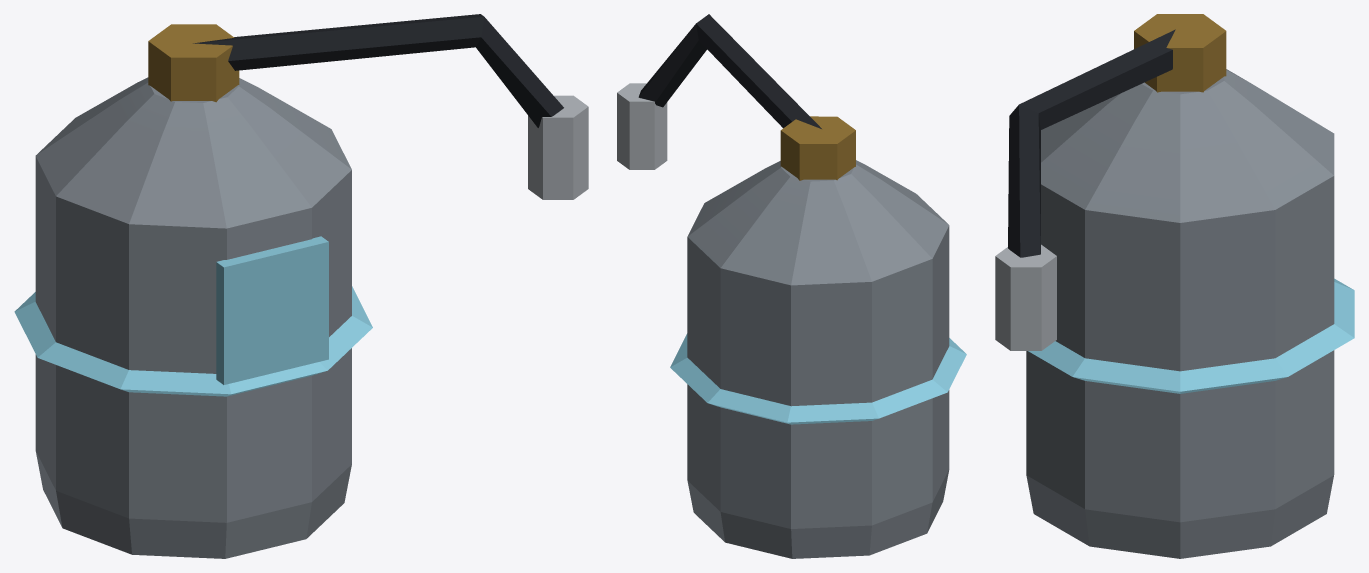
Rendered from projector-tank-cryo.glb.
The picture shows the model from 3 angles, left to right: view 1: azimuth 30°, elevation 25°; view 2: azimuth 150°, elevation 25°; view 3: azimuth 270°, elevation 25°; orthographic projection. The views are drawn at different scales.
Parts seen in each view (by area): view 1: m; view 2: m; view 3: m.
Boxes of the visible parts, x1,y1,x2,y2 form: m: (14, 14, 588, 558); m: (617, 14, 966, 558); m: (995, 14, 1354, 558).
Size of the model in its own units: 0.1158 by 0.115 by 0.0758.
